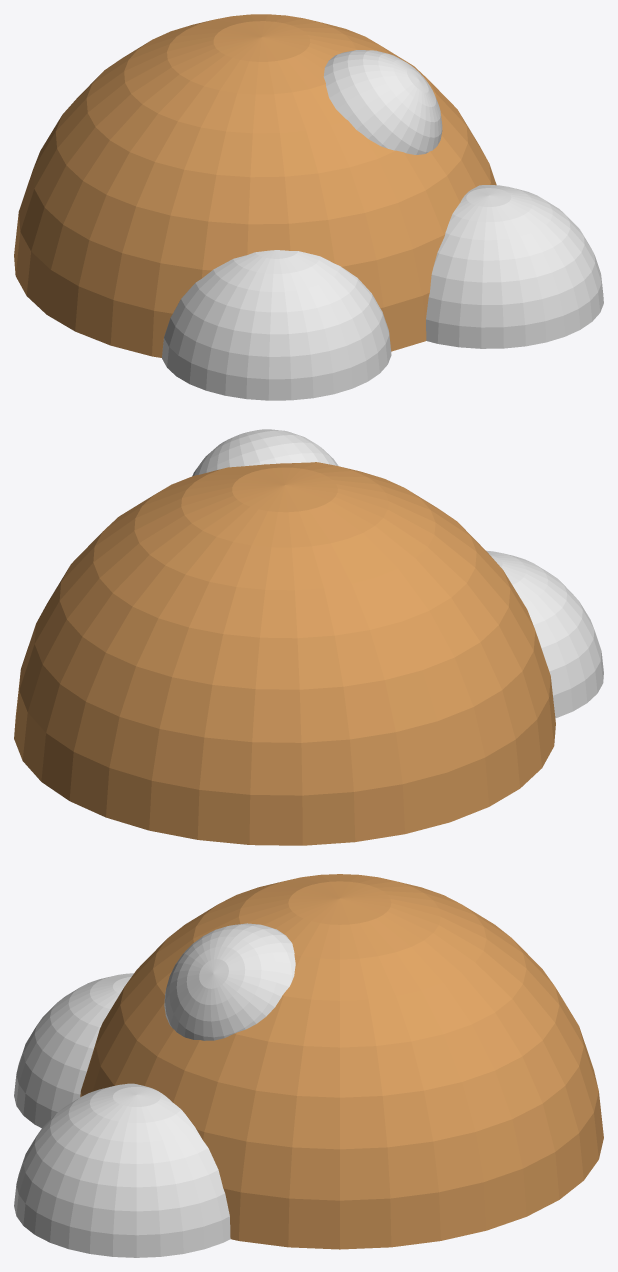
File: tropic_obstacle_opt.fbx
The picture shows the model from 3 angles, top to bottom: view 1: azimuth 30°, elevation 25°; view 2: azimuth 150°, elevation 25°; view 3: azimuth 270°, elevation 25°; orthographic projection. The views are drawn at different scales.
Parts seen in each view (by area): view 1: Sphere, Sphere.001, Sphere.002, Sphere.003; view 2: Sphere, Sphere.001, Sphere.003; view 3: Sphere, Sphere.002, Sphere.003, Sphere.001.
Boxes of the visible parts, x1,y1,x2,y2 form: Sphere: (14,14,496,357); Sphere.001: (162,250,391,400); Sphere.002: (426,185,603,348); Sphere.003: (323,50,442,154); Sphere: (14,462,555,845); Sphere.001: (486,550,603,718); Sphere.003: (192,429,338,476); Sphere: (80,874,603,1249); Sphere.002: (14,1083,230,1257); Sphere.003: (164,923,295,1040); Sphere.001: (14,973,133,1128).
Size of the model in its own units: 5869 by 2828 by 6316.
